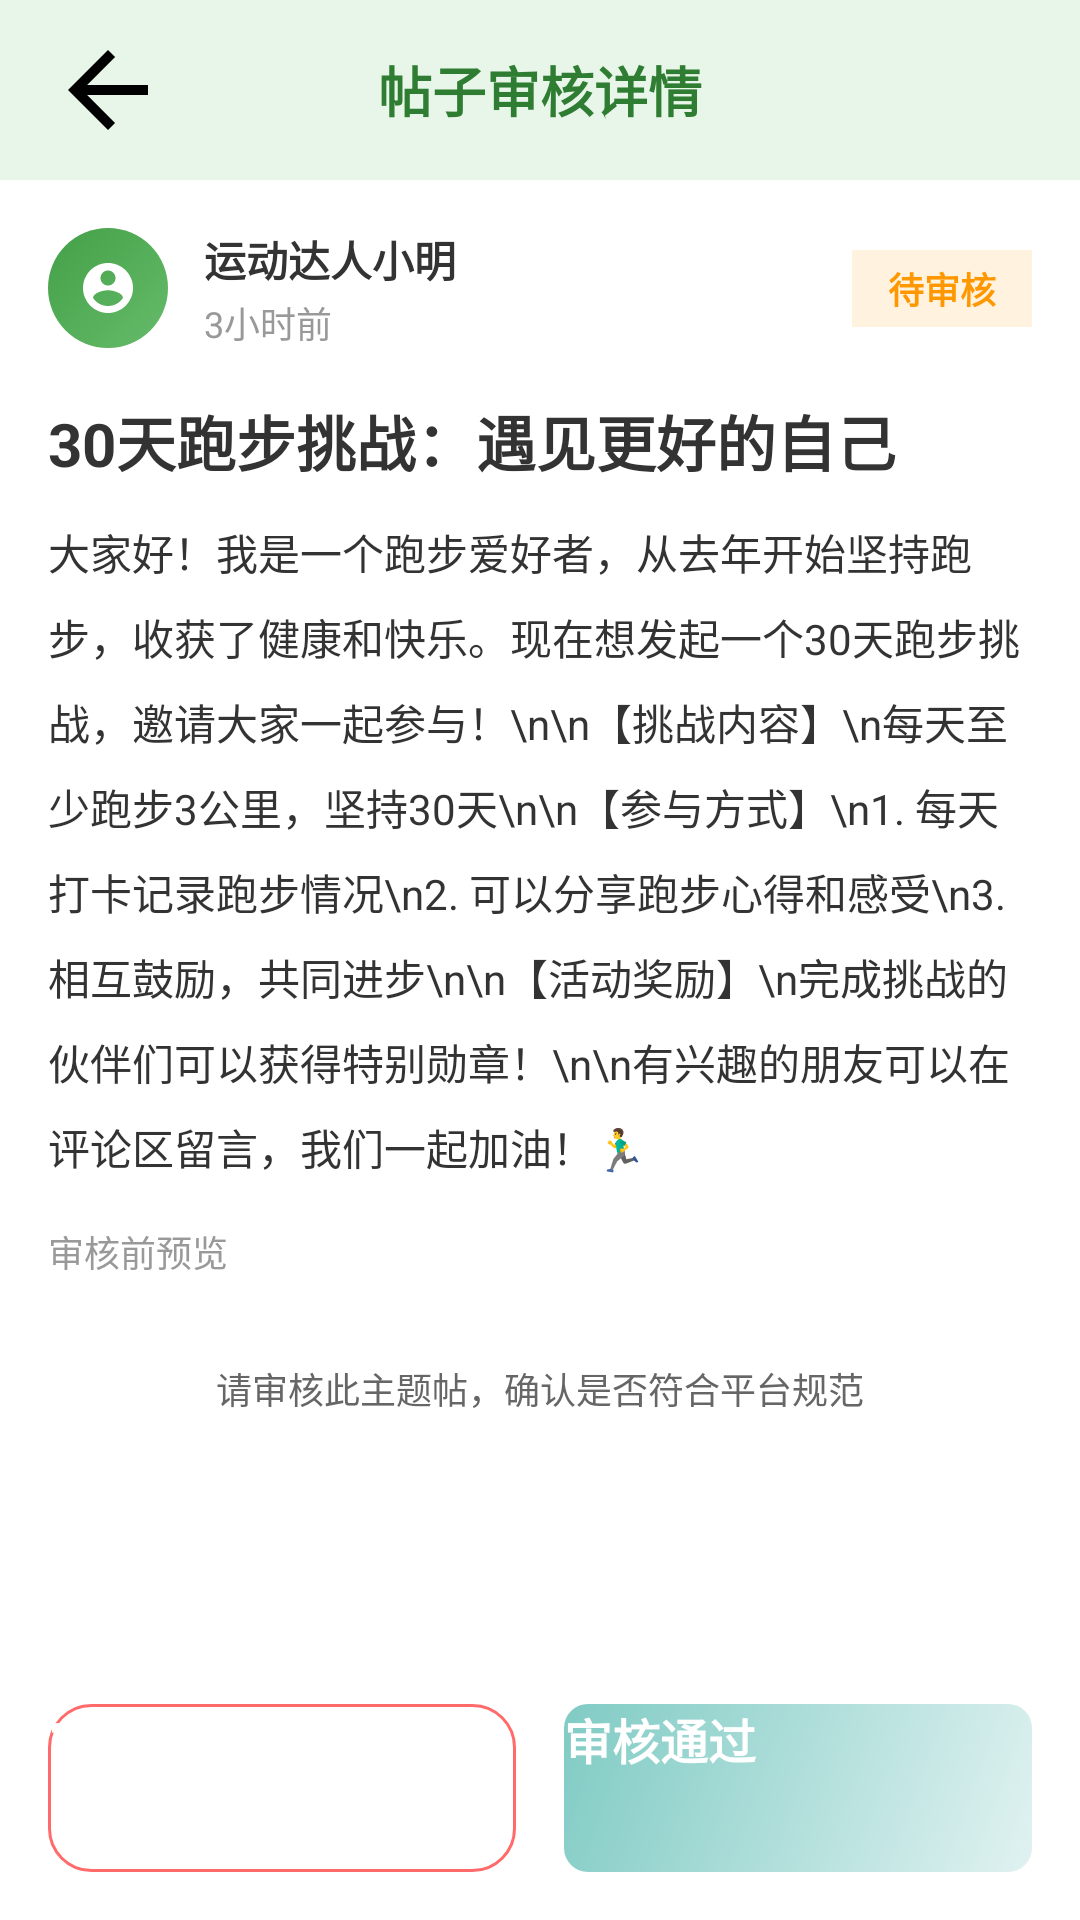

Named icons in this screenshot (1080 x 1920) and their bounding boxes, (x1, y1, x2, y2):
arrow back: (68, 50, 148, 130)
